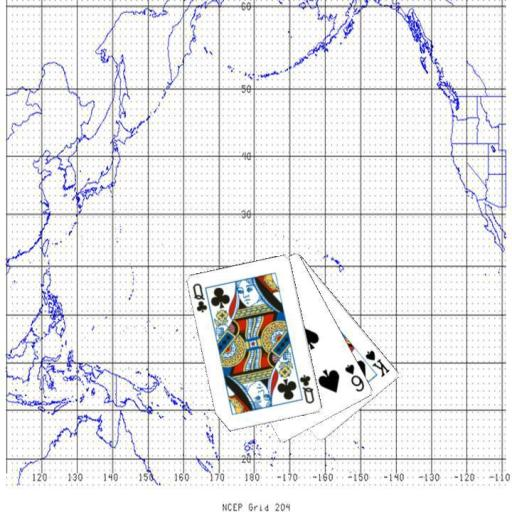card-corner: (362, 347, 392, 378), (342, 361, 366, 393), (296, 372, 316, 406), (190, 280, 209, 314)
